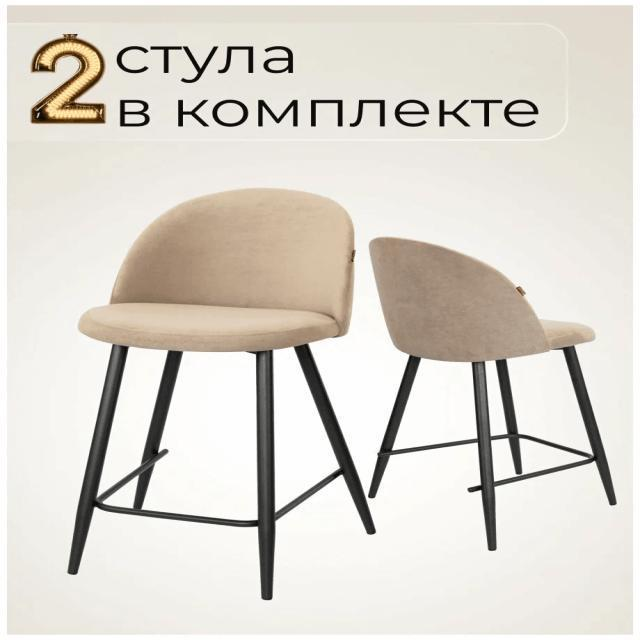chair: (66, 181, 381, 598), (360, 232, 623, 553), (82, 180, 358, 342), (366, 236, 609, 360)
